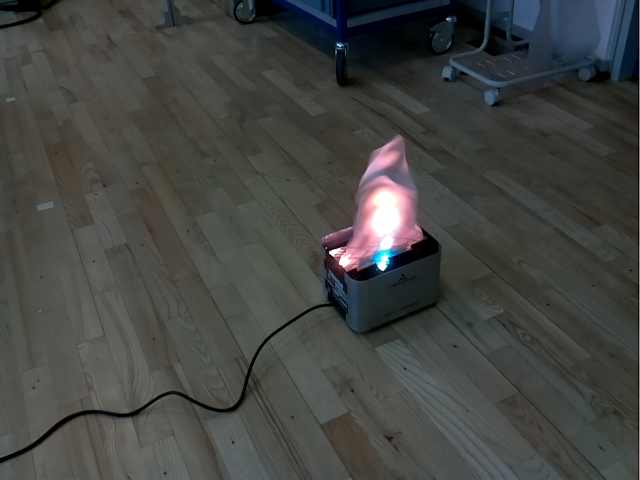fire: (345, 133, 426, 271)
